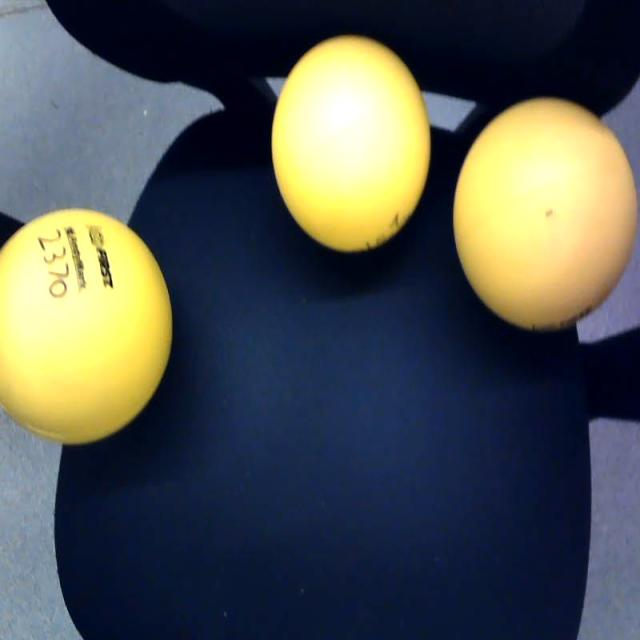Fuel: (453, 97, 638, 330), (0, 208, 173, 445), (272, 35, 431, 253)
